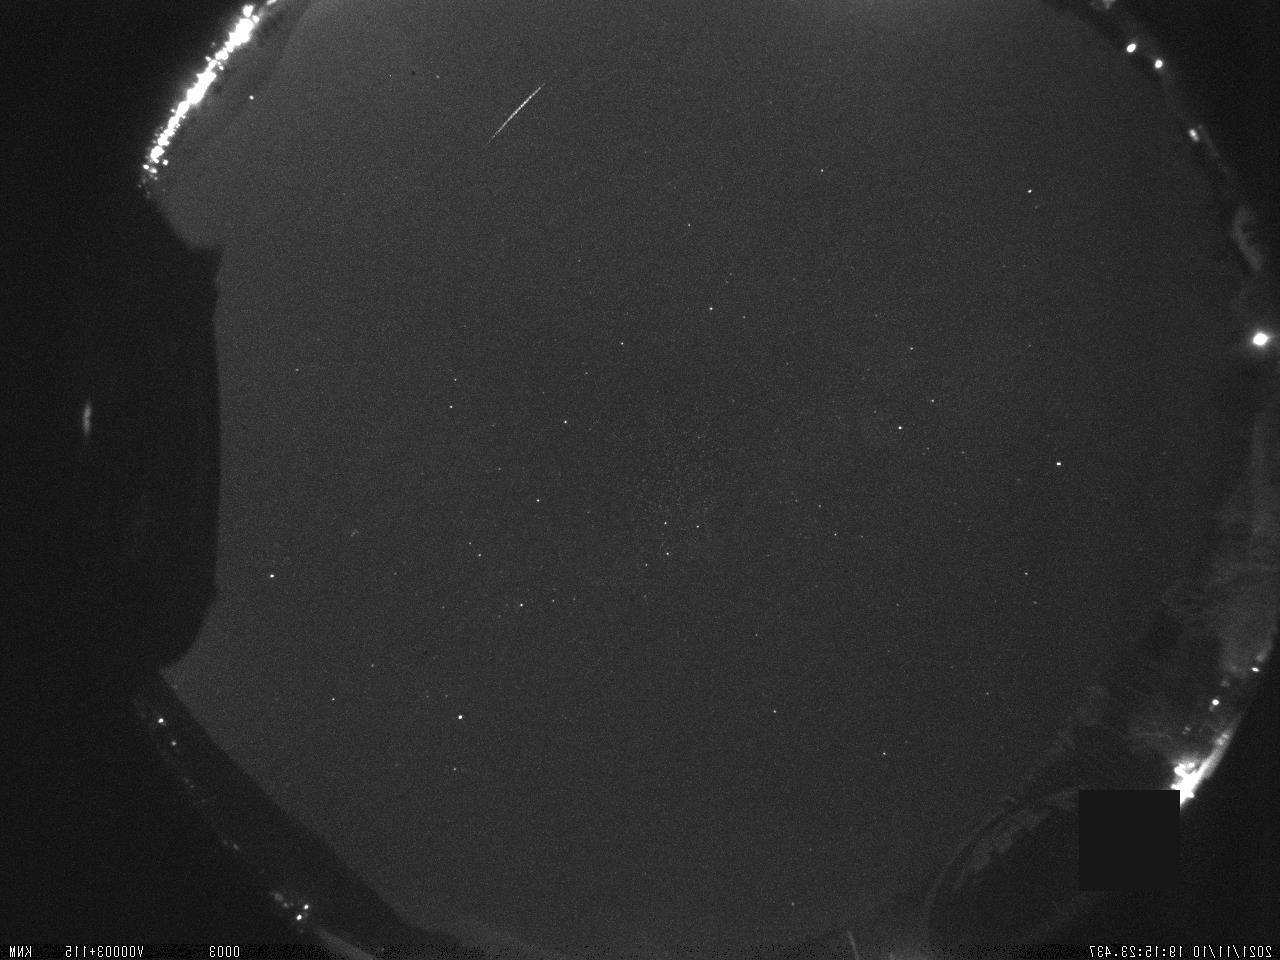meteor: (464, 76, 550, 165)
